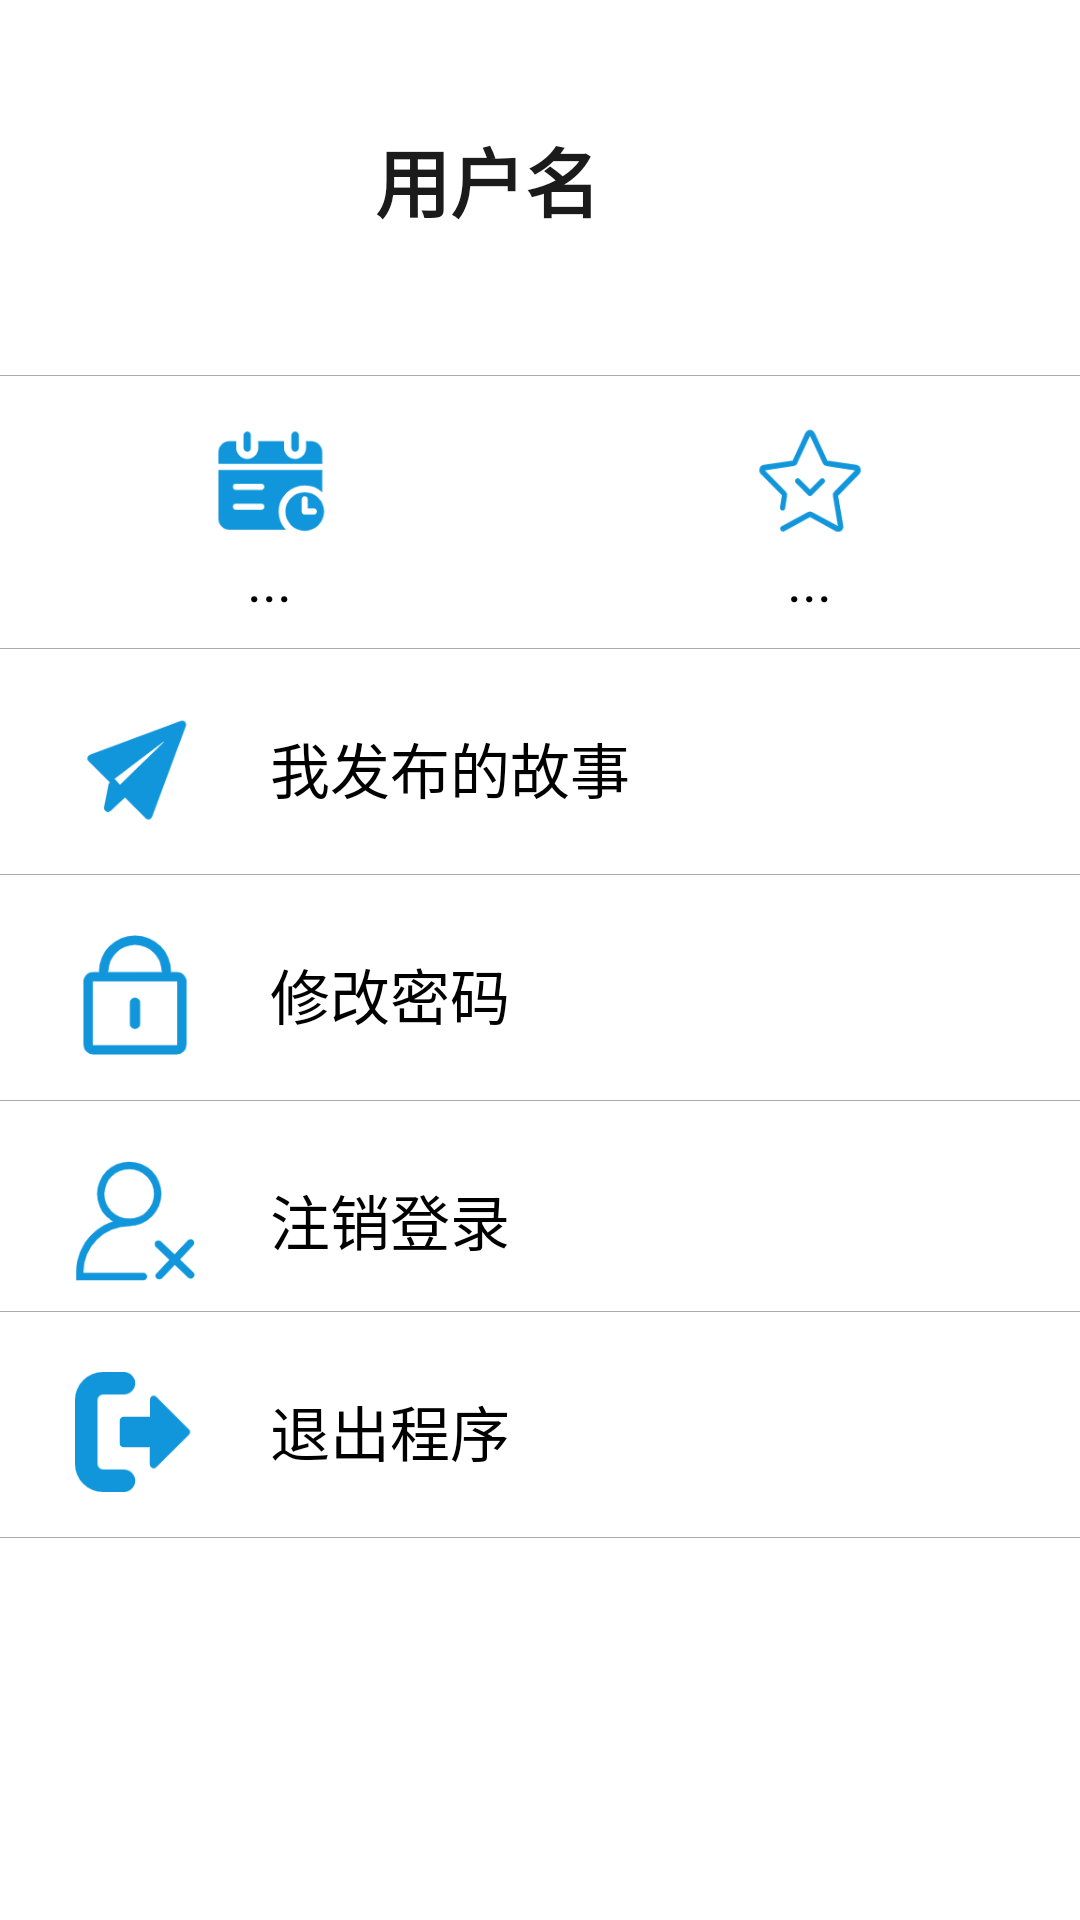

Named icons in this screenshot (1080px x 1920px) and their centers, (x,y):
appointment: (271,481)
exit: (133,1432)
password: (135,995)
publish: (137,770)
signout: (135,1221)
